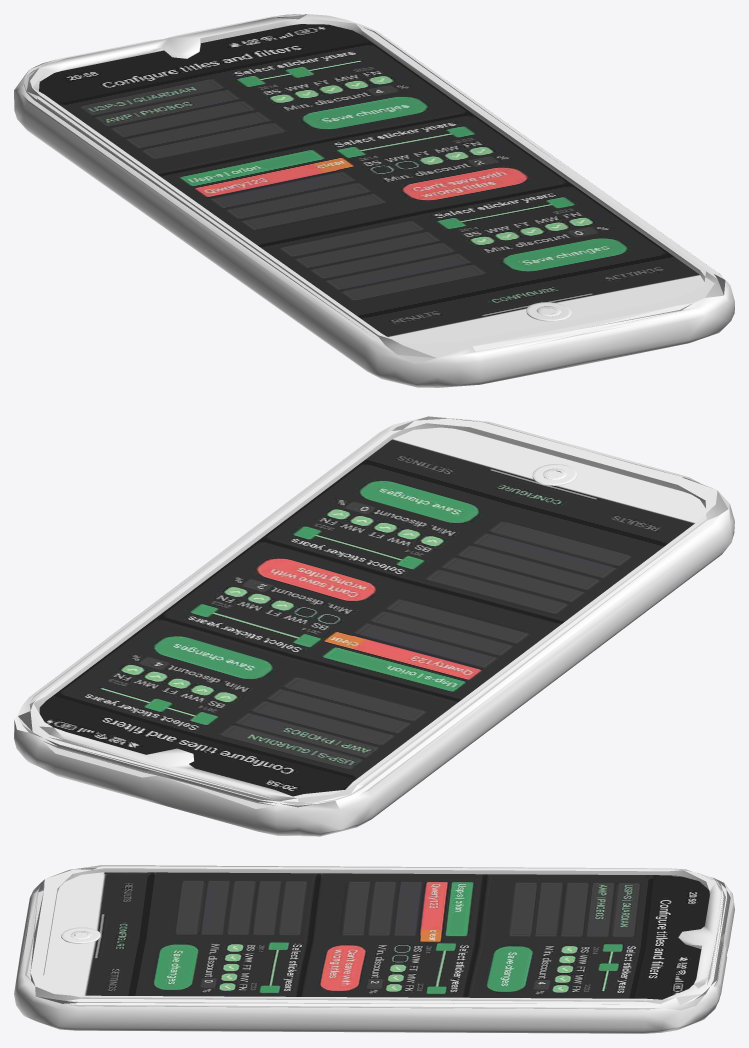
Rendered from Phone.obj.
The picture shows the model from 3 angles, top to bottom: view 1: azimuth 30°, elevation 25°; view 2: azimuth 150°, elevation 25°; view 3: azimuth 270°, elevation 25°; orthographic projection. The views are drawn at different scales.
Visible parts, largest first — view 1: objMesh; view 2: objMesh; view 3: objMesh.
Part boxes in pixels (left/top/right/bottom): objMesh: left=14, top=14, right=734, bottom=387; objMesh: left=14, top=416, right=734, bottom=836; objMesh: left=14, top=865, right=734, bottom=1033.
Bounding box in the file's own units: 1.09 × 0.1272 × 2.32.
Materials: 4 (4 with a texture image).
